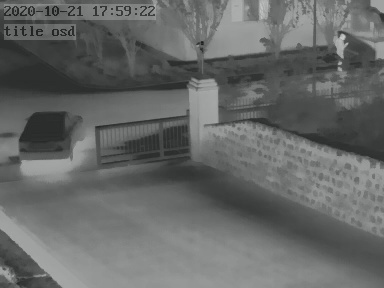person: (334, 29, 348, 72)
vehicle: (20, 109, 100, 163)
